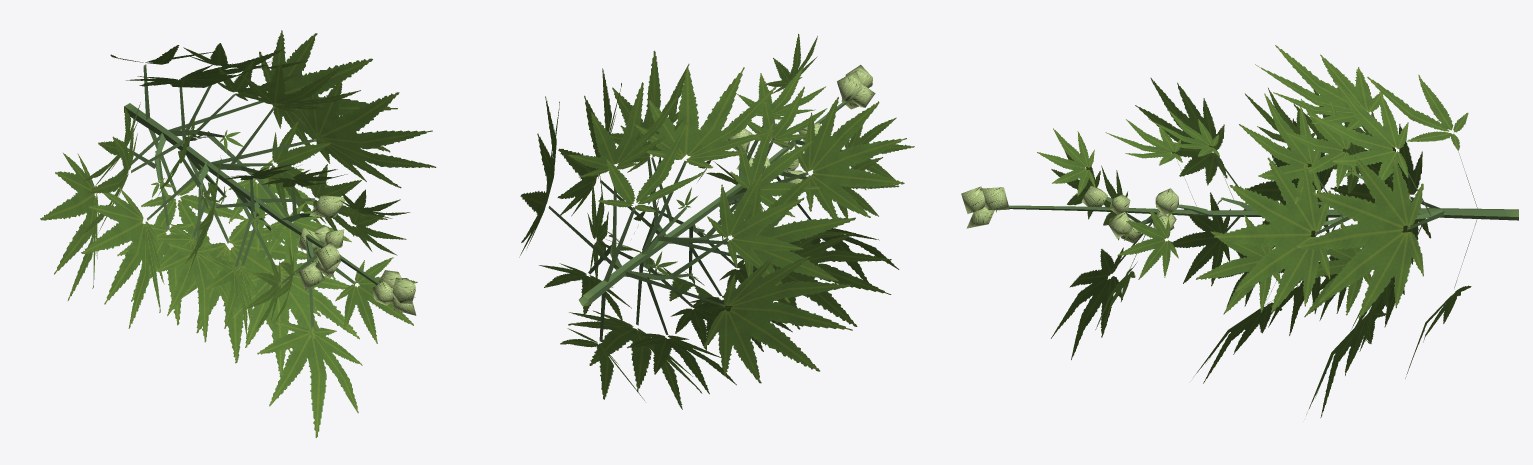
File: p_male_landrace_preflower_c0_cards.obj
The picture shows the model from 3 angles, left to right: view 1: azimuth 30°, elevation 25°; view 2: azimuth 150°, elevation 25°; view 3: azimuth 270°, elevation 25°; orthographic projection. The views are drawn at different scales.
Bounding box in the file's own units: 1.52 × 1.36 × 1.82.
1 material, 1 textured.
